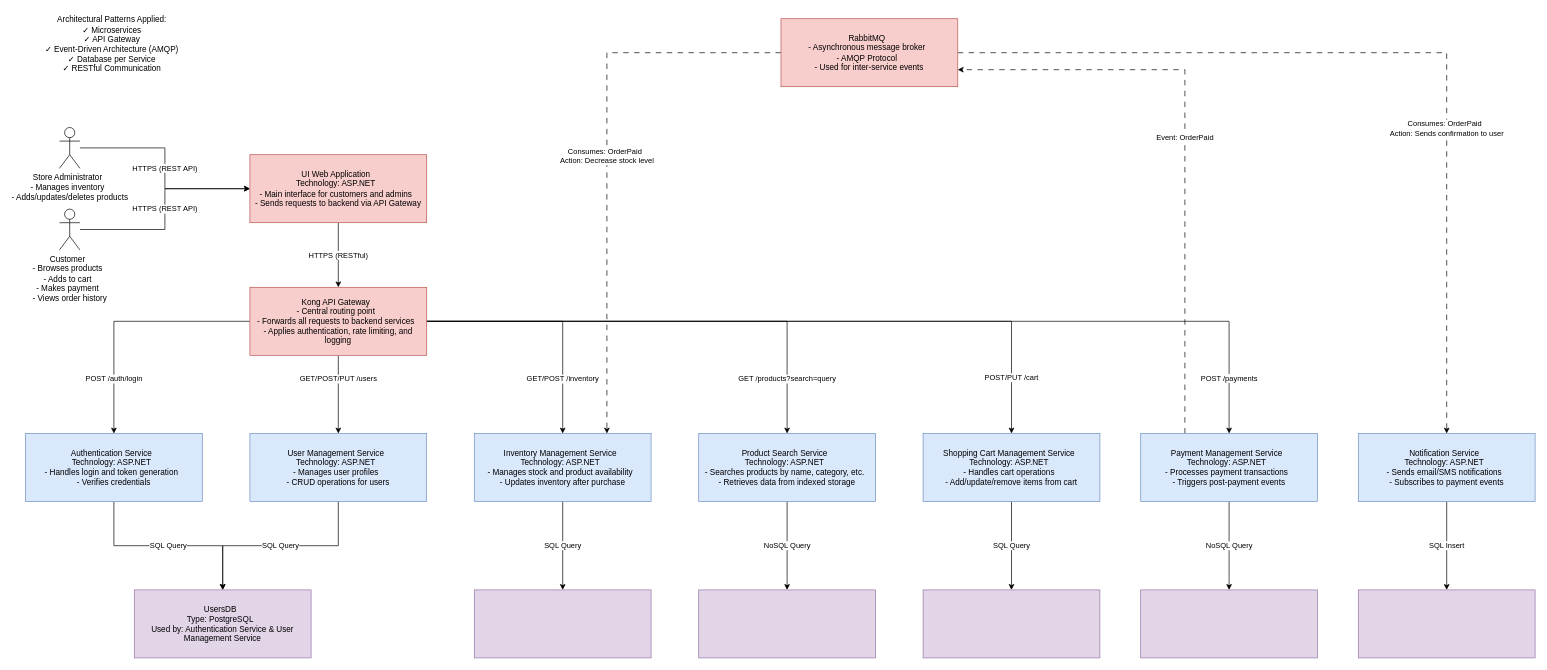
Some shapes in this 1547 by 670 pixel diagram are drawn without their labels. Each missing label, with the centre of its shape:
"InventoryDB Type: PostgreSQL Used by: Inventory Management Service" goes at pixel 562 623.
"NotificationDB Type: PostgreSQL Used by: Notification Service" goes at pixel 1446 623.
"PaymentDB Type: MongoDB Used by: Payment Management Service" goes at pixel 1229 623.
"SearchDB Type: MongoDB Used by: Product Search Service" goes at pixel 787 623.
"ShoppingCartDB Type: PostgreSQL Used by: Shopping Cart Management Service" goes at pixel 1011 623.
